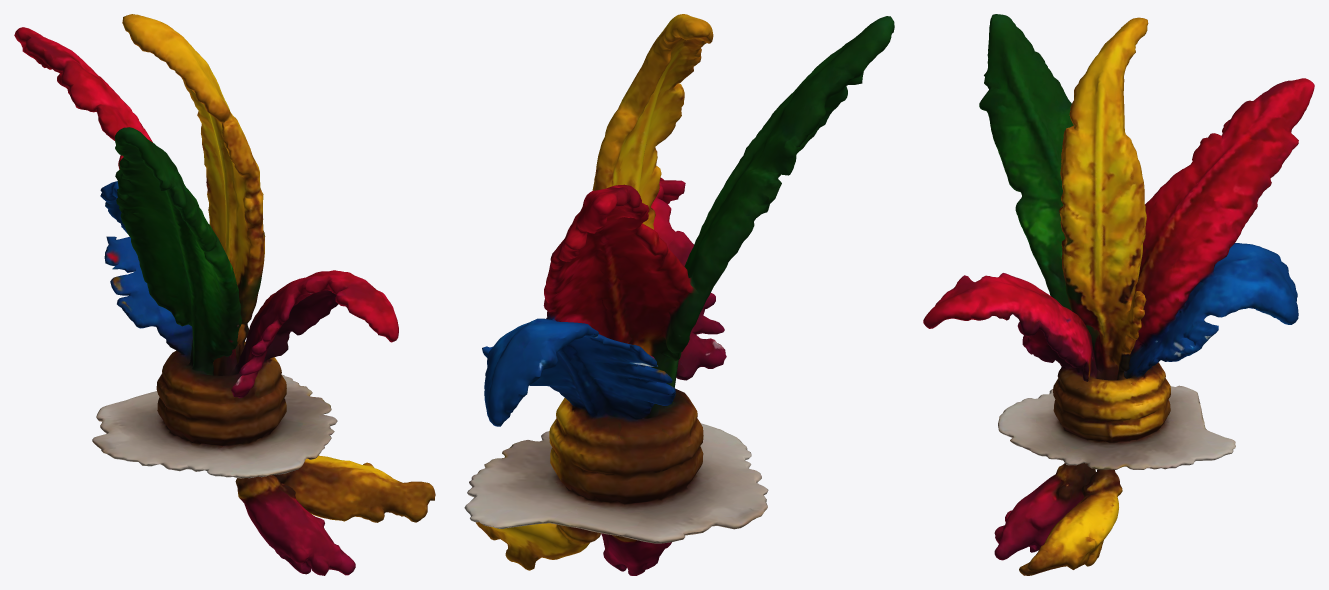
File: Jianzi.glb
3 renders of one model, left to right at view 1: azimuth 30°, elevation 25°; view 2: azimuth 150°, elevation 25°; view 3: azimuth 270°, elevation 25°, orthographic. The views are drawn at different scales.
Parts seen in each view (by area): view 1: tripo_node_fa7c8605-b251-4941-b9f2-3668e6af9380; view 2: tripo_node_fa7c8605-b251-4941-b9f2-3668e6af9380; view 3: tripo_node_fa7c8605-b251-4941-b9f2-3668e6af9380.
Part boxes in pixels (x1,y1,x2,y2): tripo_node_fa7c8605-b251-4941-b9f2-3668e6af9380: [14, 14, 435, 575]; tripo_node_fa7c8605-b251-4941-b9f2-3668e6af9380: [464, 14, 894, 575]; tripo_node_fa7c8605-b251-4941-b9f2-3668e6af9380: [923, 14, 1314, 575].
Size of the model in its own units: 0.6537 by 1 by 0.7373.
Materials: 1 (1 with a texture image).
